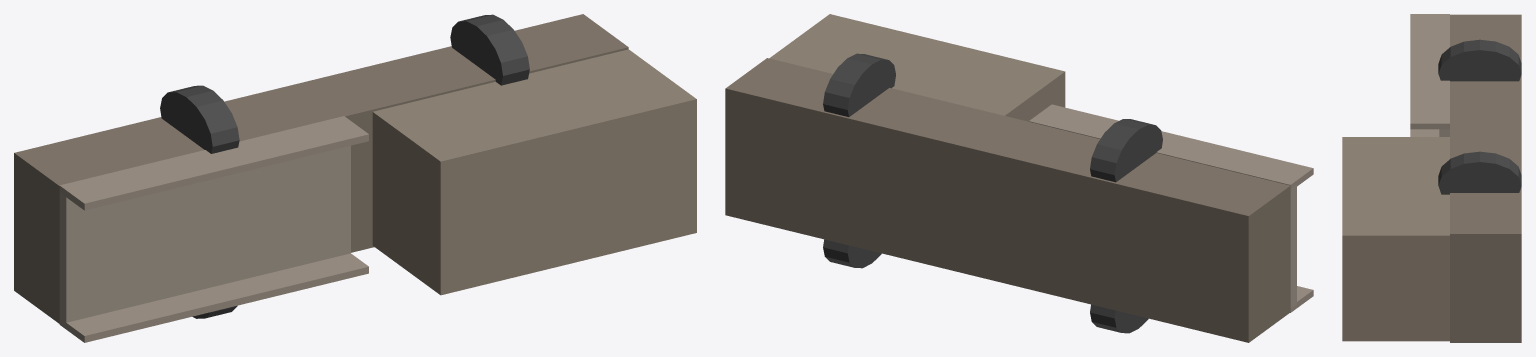
Rendered from curated_pickup_truck.glb.
3 views of the same model, side by side, from view 1: azimuth 30°, elevation 25°; view 2: azimuth 150°, elevation 25°; view 3: azimuth 270°, elevation 25° (orthographic). The views are drawn at different scales.
Visible parts, largest first — view 1: geometry_0; view 2: geometry_0; view 3: geometry_0.
Part boxes in pixels (bbox=[...]): geometry_0: bbox=[14, 14, 696, 342]; geometry_0: bbox=[725, 14, 1313, 342]; geometry_0: bbox=[1342, 14, 1521, 342].
Bounding box in the file's own units: 5.5 × 2 × 1.9.
